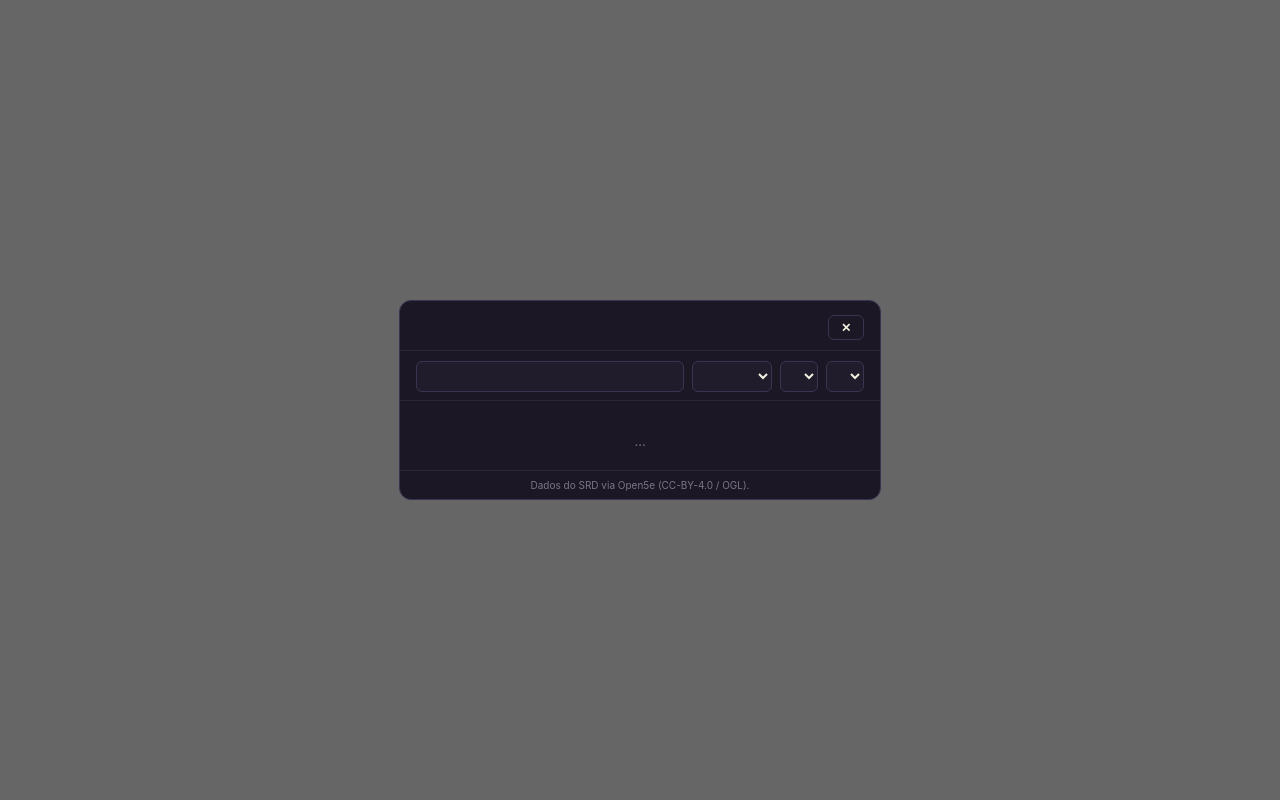
Test: SpellSearchModal › filters results by search query
This screenshot has width=1280, height=800.
Type "fire" into the field with test id "spell-search-input" at (550, 376), box [416,361,684,392]
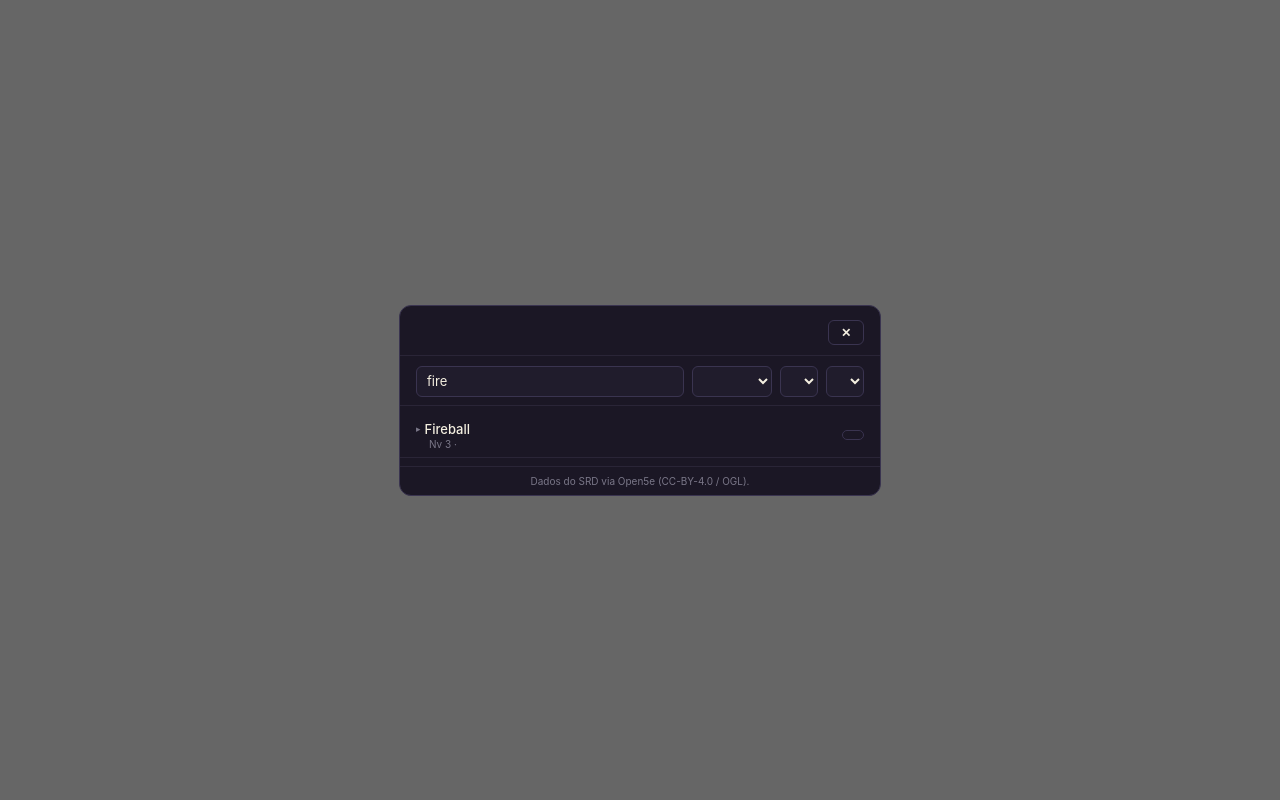
Expected: the element with test id "srd-spell-fireball" is shown, [400,414,880,458]
